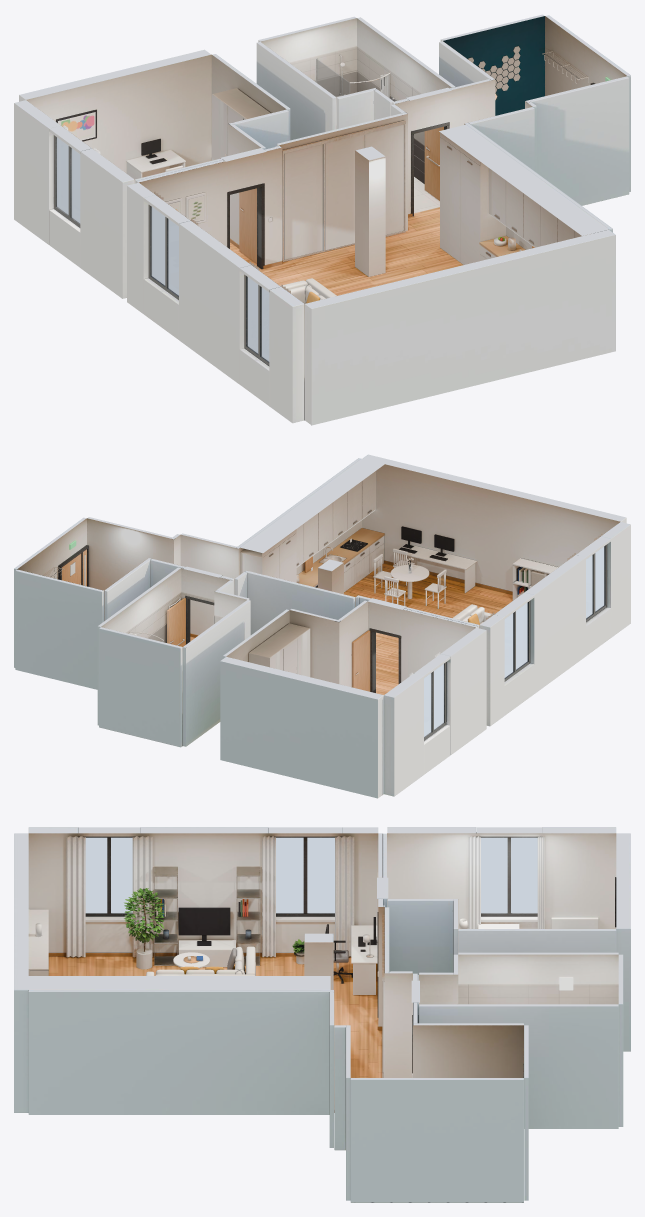
The model's file is flat_no_ceiling.glb.
The picture shows the model from 3 angles, top to bottom: view 1: azimuth 30°, elevation 25°; view 2: azimuth 150°, elevation 25°; view 3: azimuth 270°, elevation 25°; orthographic projection. The views are drawn at different scales.
Parts seen in each view (by area): view 1: zapec_telo_0, zapec_zdi_1, zapec_nabytek_6, zapec_podlahy_2, sklo_okno_67, sklo_okno_111, sklo_okno_74, sprchova_stena_295, zapec_nabytek_7; view 2: zapec_telo_0, zapec_zdi_1, zapec_nabytek_6, zapec_podlahy_2, zapec_nabytek_7, sklo_okno_67, sklo_okno_111, sklo_okno_74; view 3: zapec_telo_0, zapec_zdi_1, zapec_nabytek_6, zapec_zaclony_5, zapec_podlahy_2, sklo_okno_67, sklo_okno_111, sklo_okno_74, zapec_listy_4.
Boxes of the visible parts, <box> form: zapec_telo_0: <box>14,14,630,425</box>; zapec_zdi_1: <box>26,16,626,420</box>; zapec_nabytek_6: <box>126,46,581,303</box>; zapec_podlahy_2: <box>230,177,462,295</box>; sklo_okno_67: <box>151,207,178,295</box>; sklo_okno_111: <box>57,137,80,223</box>; sklo_okno_74: <box>247,277,269,361</box>; sprchova_stena_295: <box>317,59,349,96</box>; zapec_nabytek_7: <box>165,51,610,251</box>; zapec_telo_0: <box>14,454,630,798</box>; zapec_zdi_1: <box>17,458,620,745</box>; zapec_nabytek_6: <box>70,470,558,691</box>; zapec_podlahy_2: <box>190,563,512,694</box>; zapec_nabytek_7: <box>44,538,446,640</box>; sklo_okno_67: <box>504,603,527,677</box>; sklo_okno_111: <box>424,664,443,736</box>; sklo_okno_74: <box>586,546,604,618</box>; zapec_telo_0: <box>14,827,630,1202</box>; zapec_zdi_1: <box>28,832,618,1112</box>; zapec_nabytek_6: <box>28,866,598,1077</box>; zapec_zaclony_5: <box>66,836,544,957</box>; zapec_podlahy_2: <box>48,956,382,1077</box>; sklo_okno_67: <box>276,837,334,913</box>; sklo_okno_111: <box>481,837,537,913</box>; sklo_okno_74: <box>85,837,132,913</box>; zapec_listy_4: <box>124,888,304,952</box>.
Bounding box in the file's own units: 11.92 × 2.71 × 12.3.
Materials: 9 (7 with a texture image).
